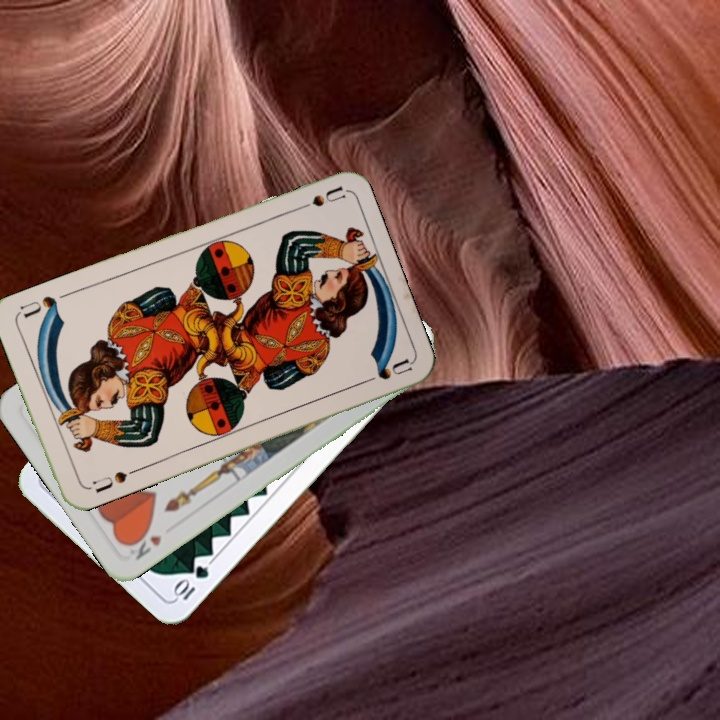G10: (170, 561, 212, 604)
HK: (123, 525, 165, 563)
SU: (288, 182, 346, 215), (89, 464, 140, 496)
